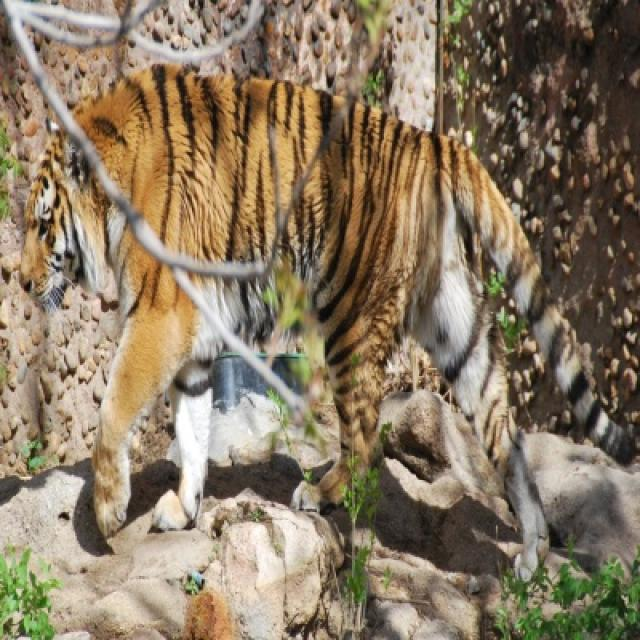Tiger: (74, 64, 630, 507), (21, 131, 222, 536)
